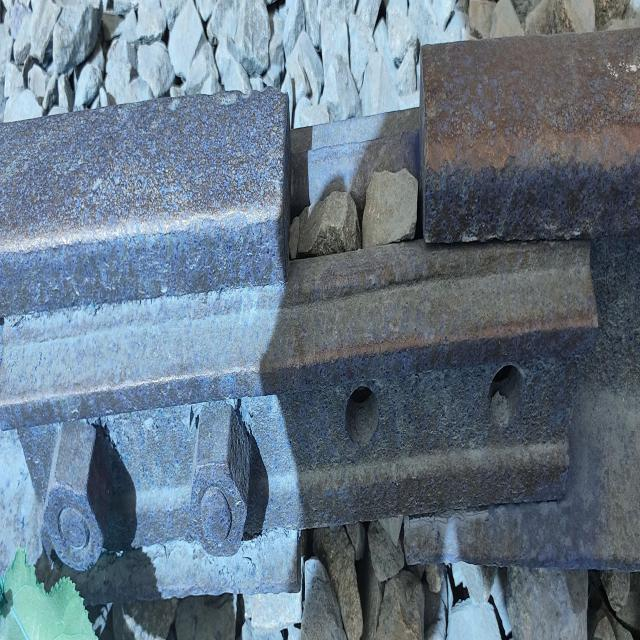broken_rail_high: (275, 49, 433, 260)
railway_join_bar_defects_high: (270, 41, 532, 479)
